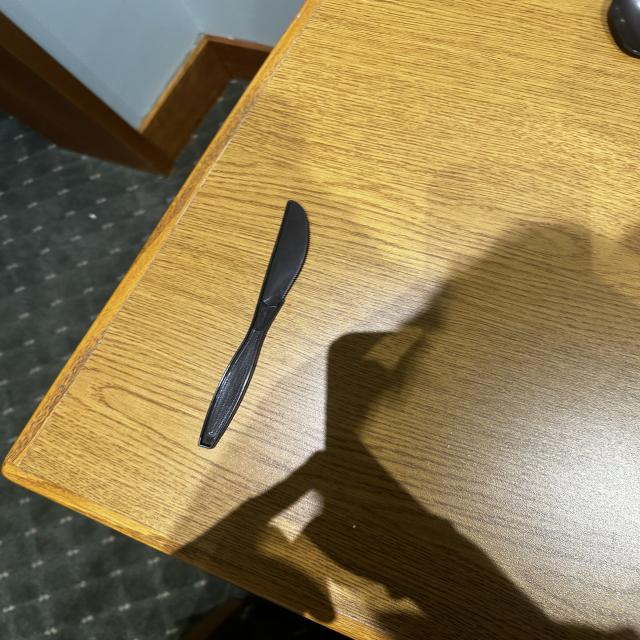knife: (183, 172, 341, 464)
